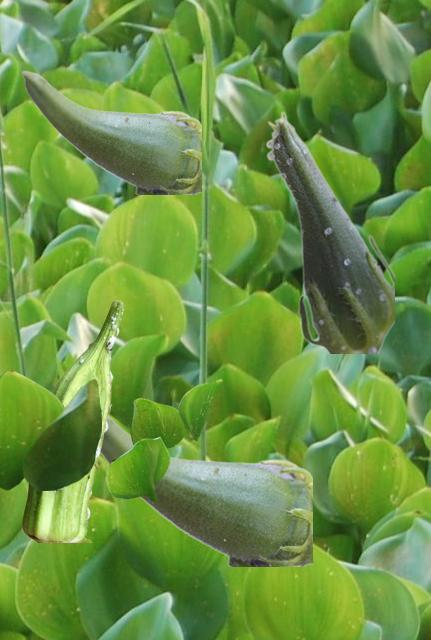okra: (101, 415, 311, 565), (265, 111, 393, 352), (22, 300, 123, 541), (21, 70, 200, 193)
